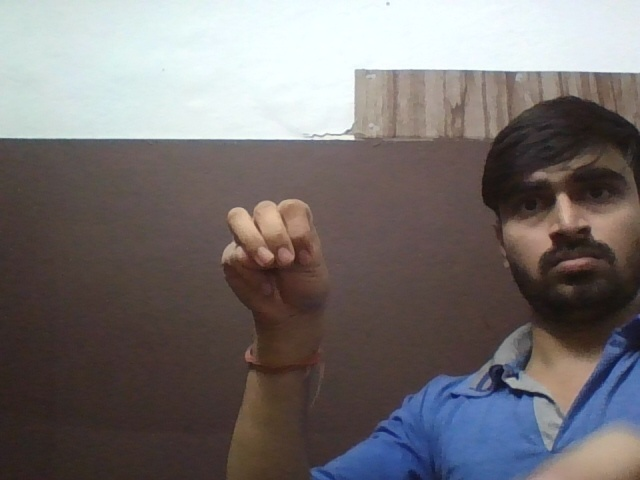M: (186, 199, 351, 322)
